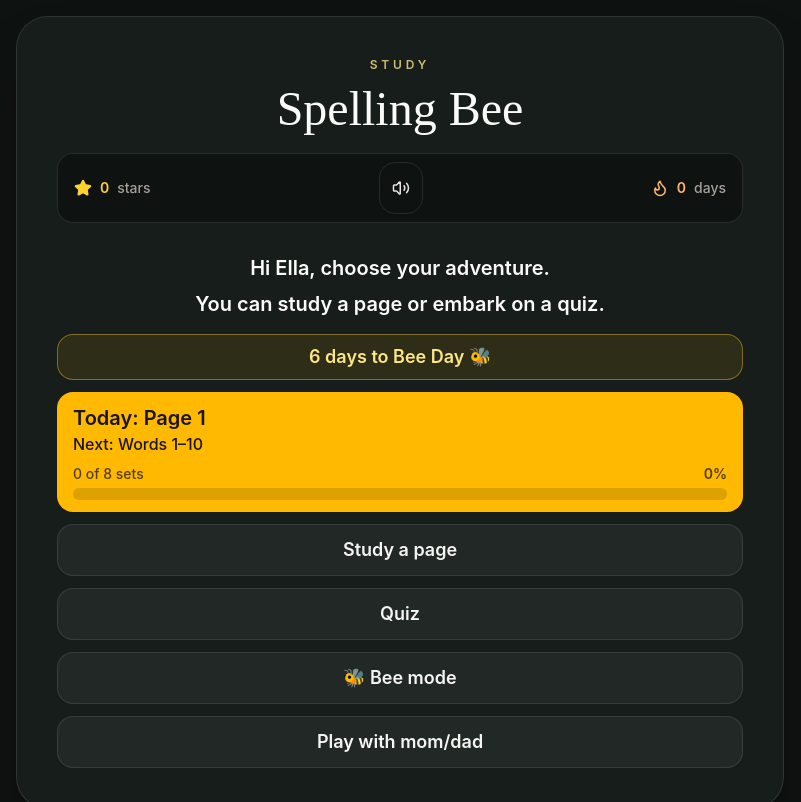
Scenario: spelling attempts › turns a correct guess entirely green
The width and height of the screenshot is (801, 802).
Step 1. Click the button "Quiz" → (400, 614), box x1=57 y1=588 x2=743 y2=640
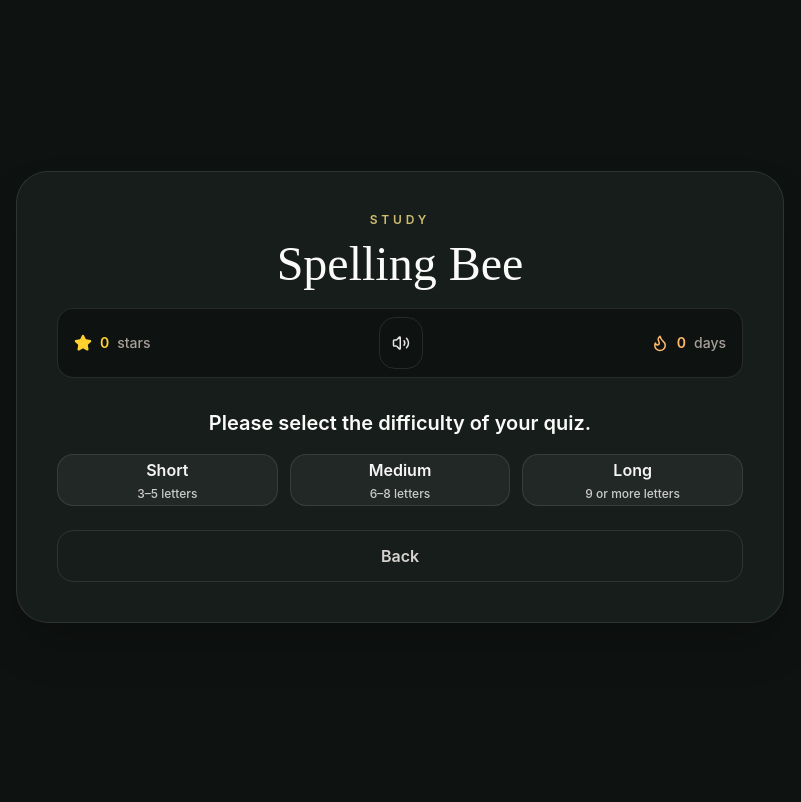
Step 2. Click the button "Short 3–5 letters" → (167, 480), box x1=57 y1=454 x2=278 y2=506
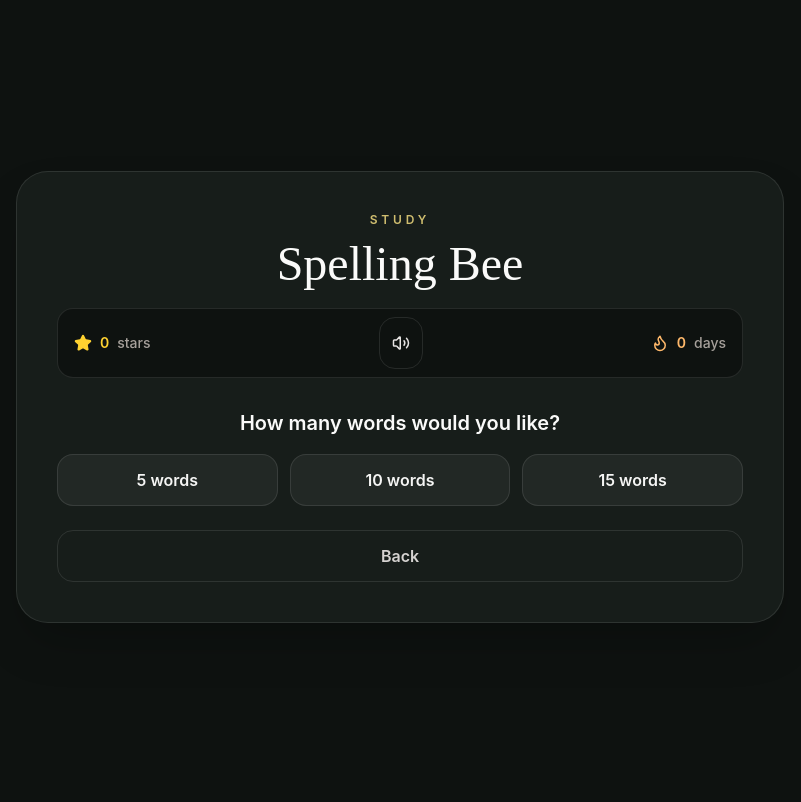
Step 3. Click the button "5 words" → (167, 480), box x1=57 y1=454 x2=278 y2=506
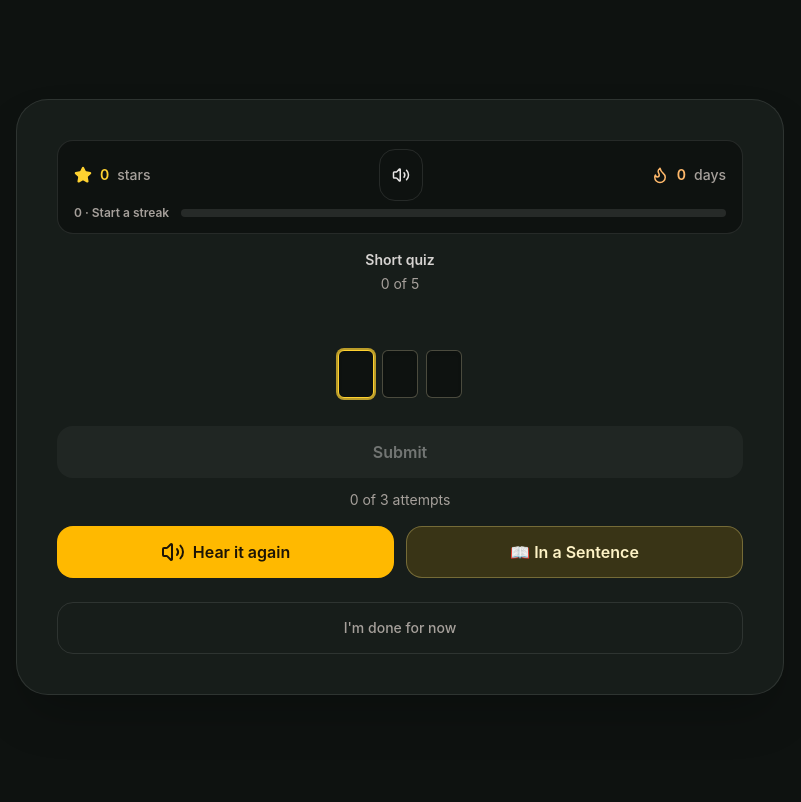
Step 4. Type "rod" into the field named "spelling guess" → (400, 374), box x1=57 y1=342 x2=743 y2=406
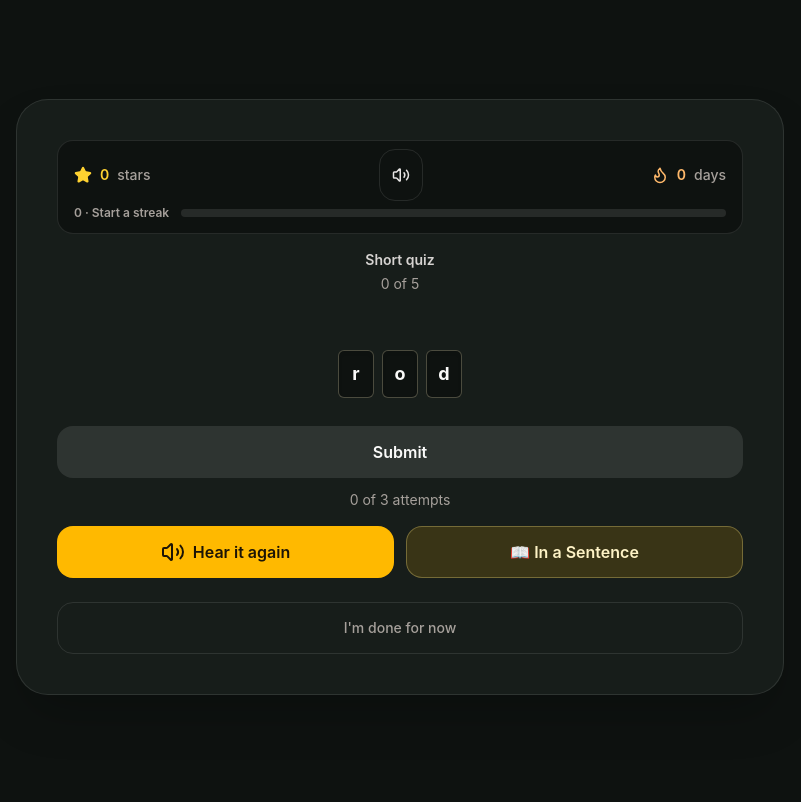
Step 5. Click the button "Submit" → (400, 452), box x1=57 y1=426 x2=743 y2=478
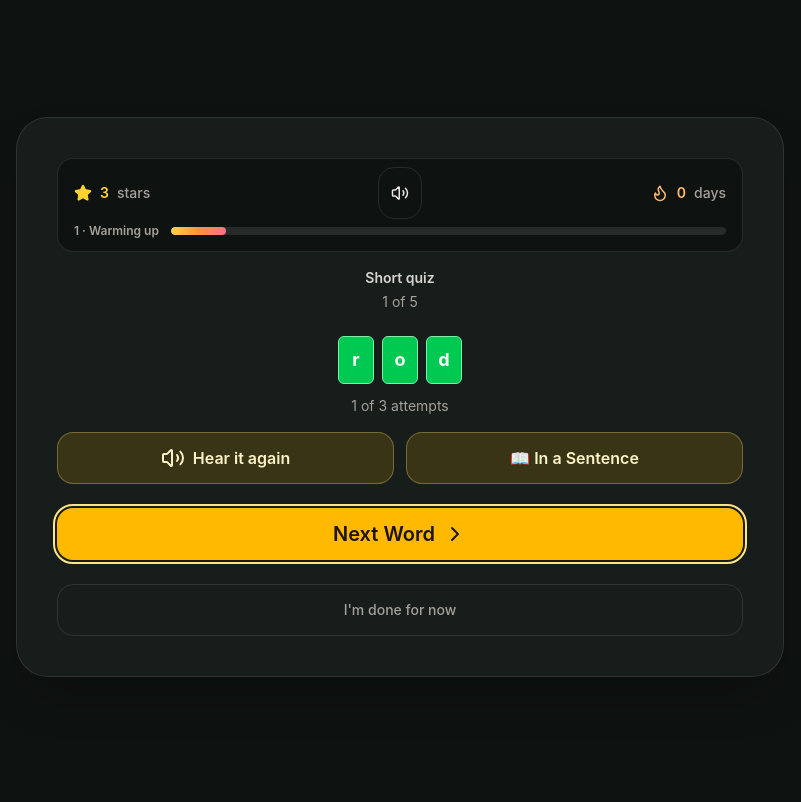
Expected: the elements with test id "attempt-tile" read "r", "o", "d", in this order, x1=338 y1=336 x2=374 y2=384; x1=382 y1=336 x2=418 y2=384; x1=426 y1=336 x2=462 y2=384
